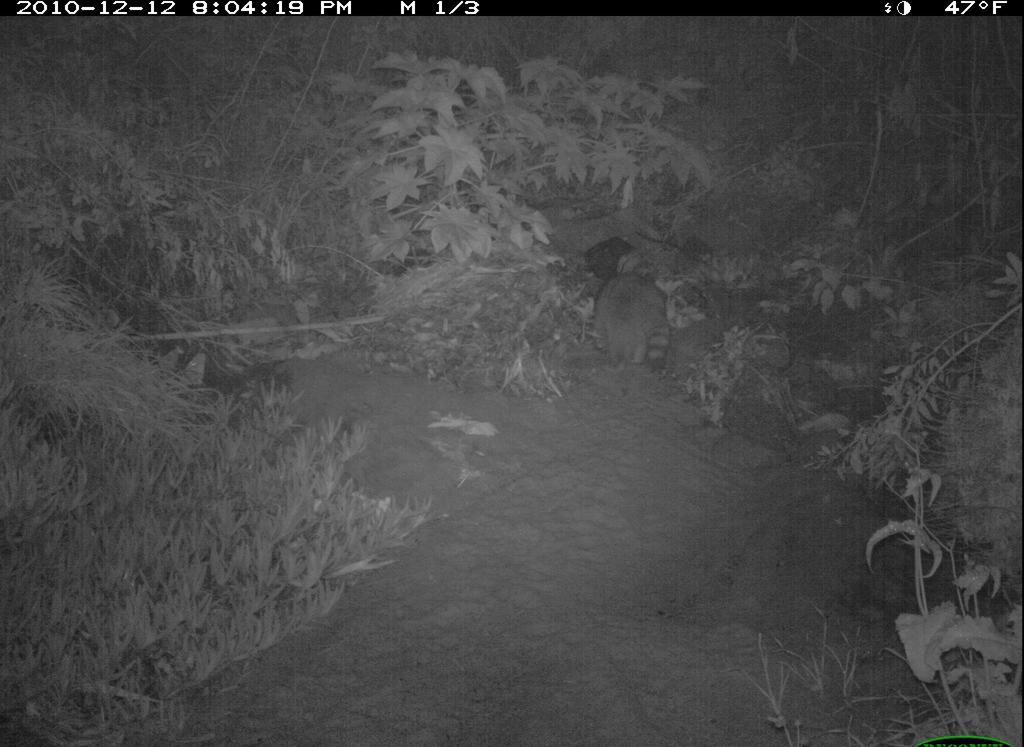raccoon: (571, 259, 680, 391)
